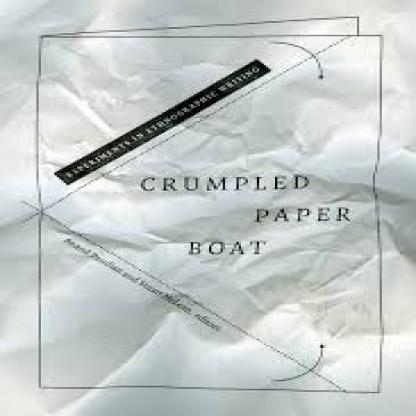paper: (0, 0, 414, 415)
